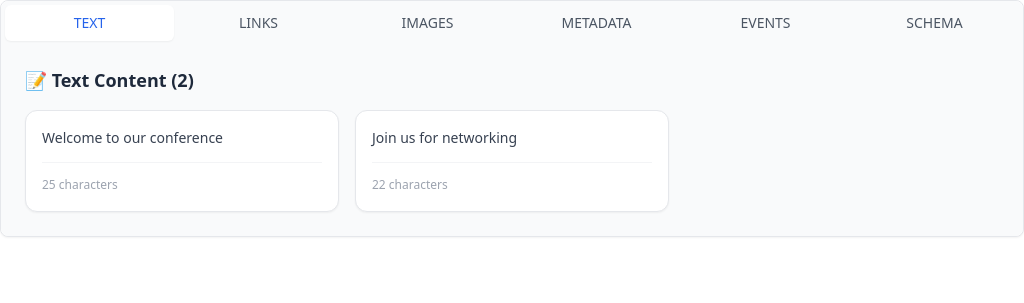
Test: ScrapeResultTabs with Schema.org Data › Events Tab › handles multi-day events correctly
Click the button "EVENTS": {"x": 766, "y": 23} [681, 5, 850, 41]
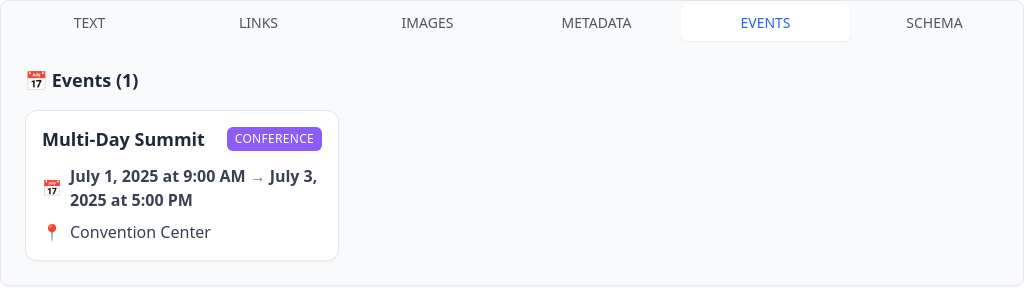
Result: the text "→" is shown at [250, 165, 266, 187]
